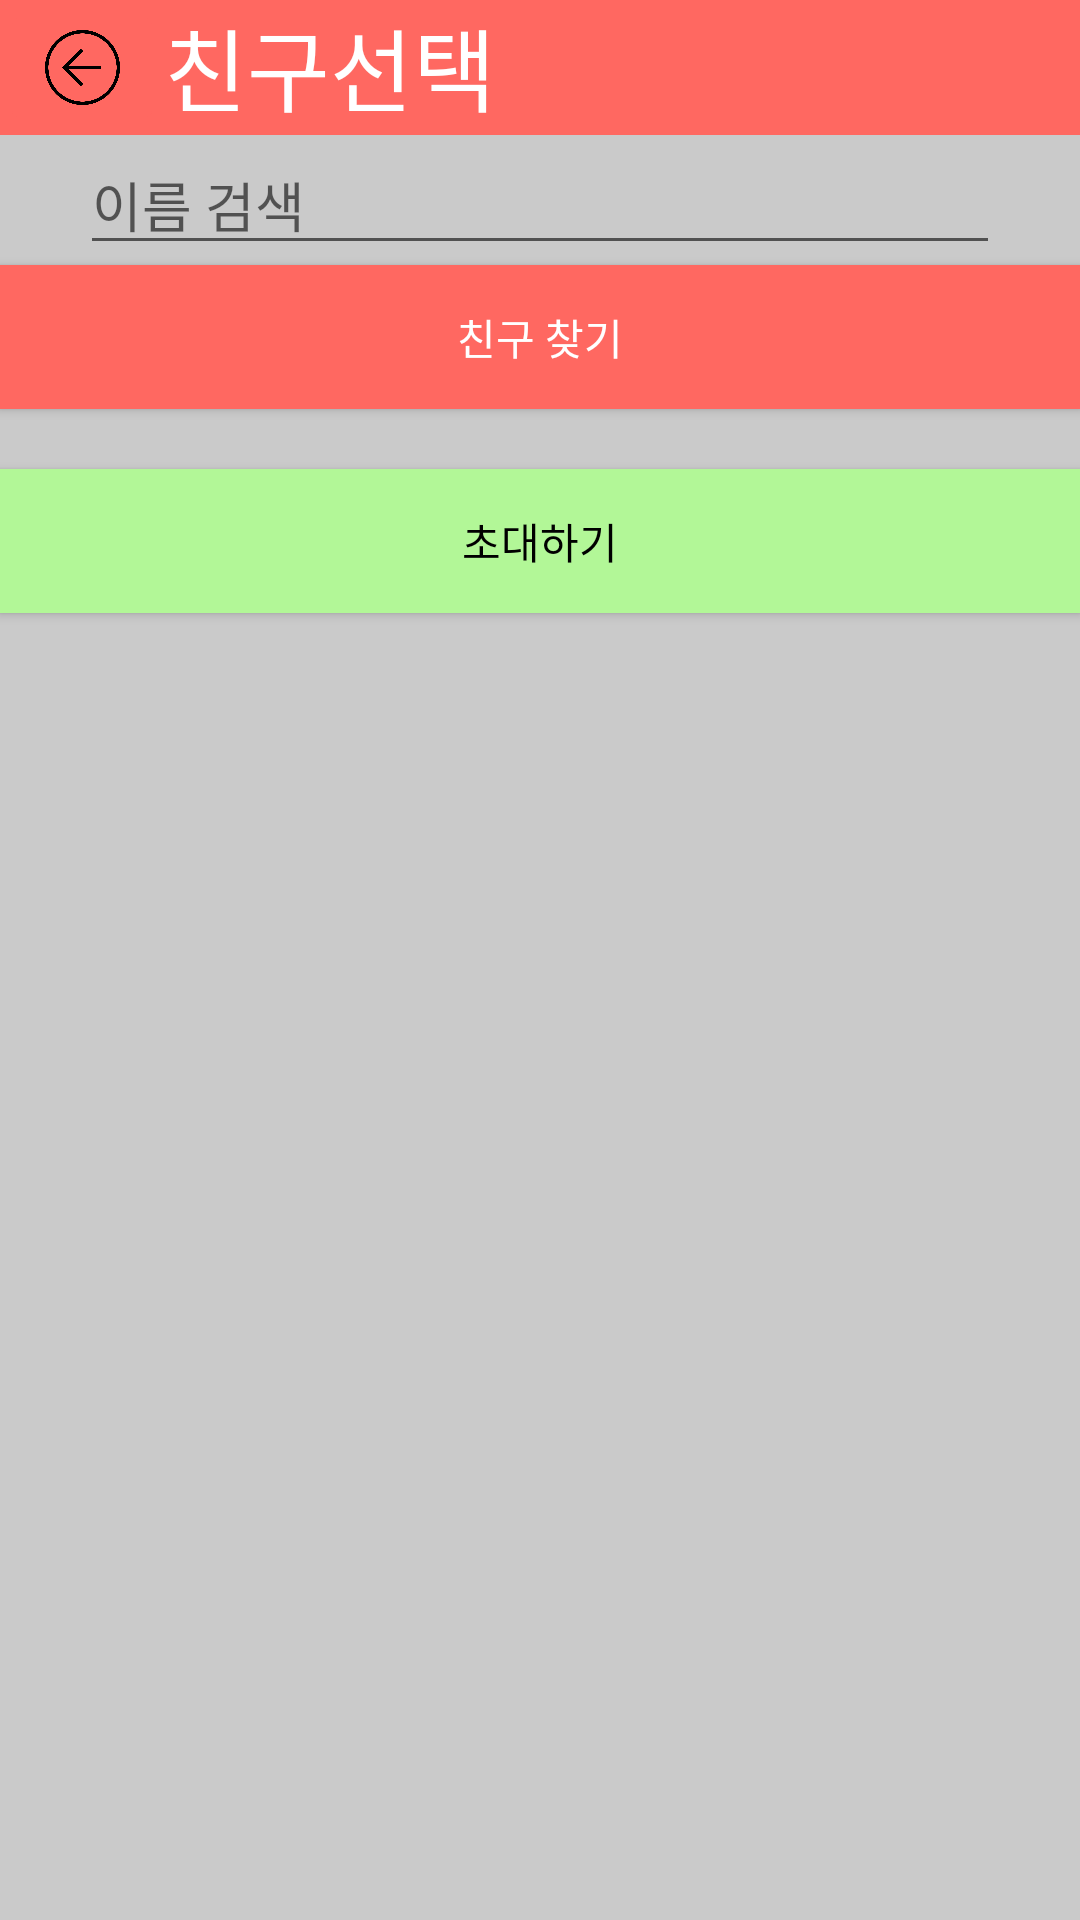

Locate icon controls on the screen. Image size 1080 × 1920, boxes as bbox=(x1, y1, x2, y2).
back: bbox=(45, 30, 120, 105)
